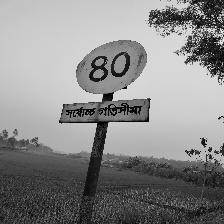Speed-limit: (61, 39, 151, 124)
